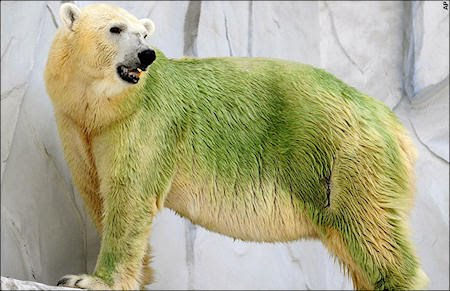Polar Bear: (38, 8, 447, 284)
